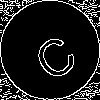C: (25, 25, 81, 84)
